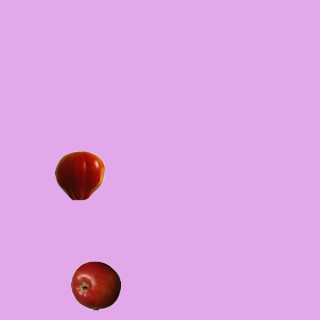Apple Braeburn: (70, 260, 120, 310)
Tomato 1: (54, 150, 104, 200)
